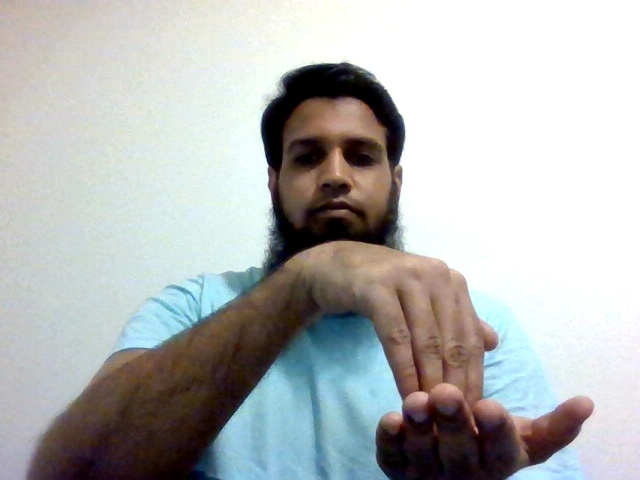again: (283, 237, 600, 479)
